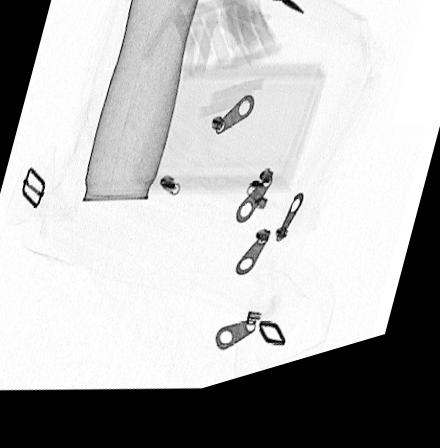Scissors: (240, 0, 305, 30)
